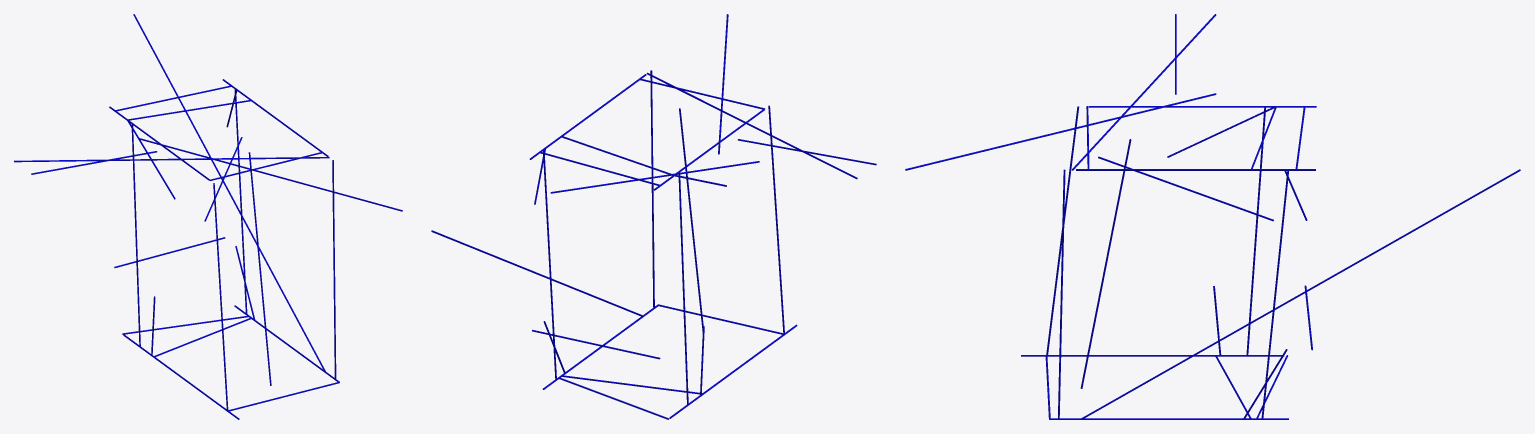
Rendered from corrected_3d_strokes.glb.
3 renders of one model, left to right at view 1: azimuth 30°, elevation 25°; view 2: azimuth 150°, elevation 25°; view 3: azimuth 270°, elevation 25°, orthographic. The views are drawn at different scales.
Visible parts, largest first — view 1: world; view 2: world; view 3: world.
Boxes of the visible parts, left/top/right/bottom form: world: left=14, top=14, right=402, bottom=419; world: left=431, top=14, right=876, bottom=419; world: left=905, top=14, right=1520, bottom=419.
Size of the model in its own units: 7.1 by 6.18 by 13.02.
